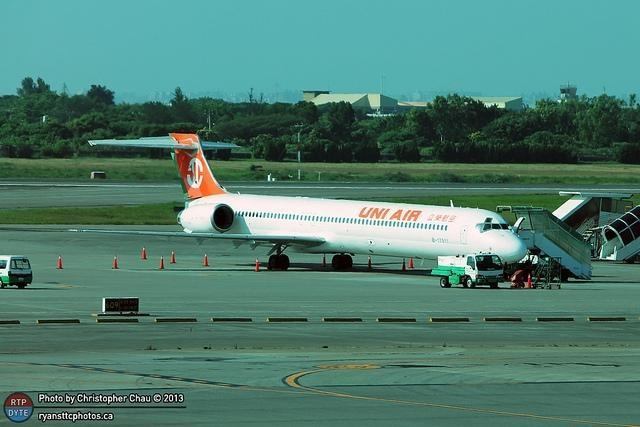truck: (430, 252, 507, 289)
